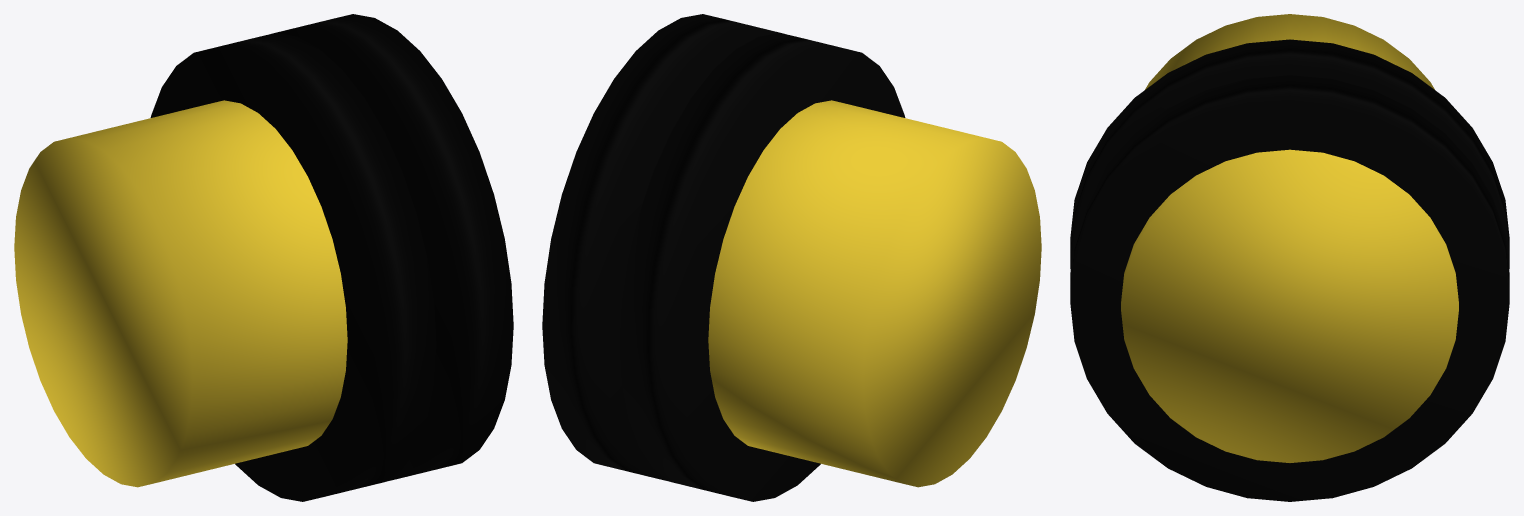
The model's file is spaceship_thruster.glb.
3 views of the same model, side by side, from view 1: azimuth 30°, elevation 25°; view 2: azimuth 150°, elevation 25°; view 3: azimuth 270°, elevation 25° (orthographic). The views are drawn at different scales.
Visible parts, largest first — view 1: Cylinder, Cylinder.002, Cylinder.001; view 2: Cylinder, Cylinder.002, Cylinder.001; view 3: Cylinder, Cylinder.001, Cylinder.002.
Boxes of the visible parts, bbox=[...] form: Cylinder: bbox=[14, 100, 347, 487]; Cylinder.002: bbox=[150, 33, 436, 501]; Cylinder.001: bbox=[274, 14, 513, 481]; Cylinder: bbox=[708, 100, 1041, 487]; Cylinder.002: bbox=[619, 33, 905, 501]; Cylinder.001: bbox=[542, 14, 781, 481]; Cylinder: bbox=[1121, 14, 1458, 462]; Cylinder.001: bbox=[1070, 75, 1509, 501]; Cylinder.002: bbox=[1070, 39, 1509, 268].
Size of the model in its own units: 2 by 2.6 by 2.6.
